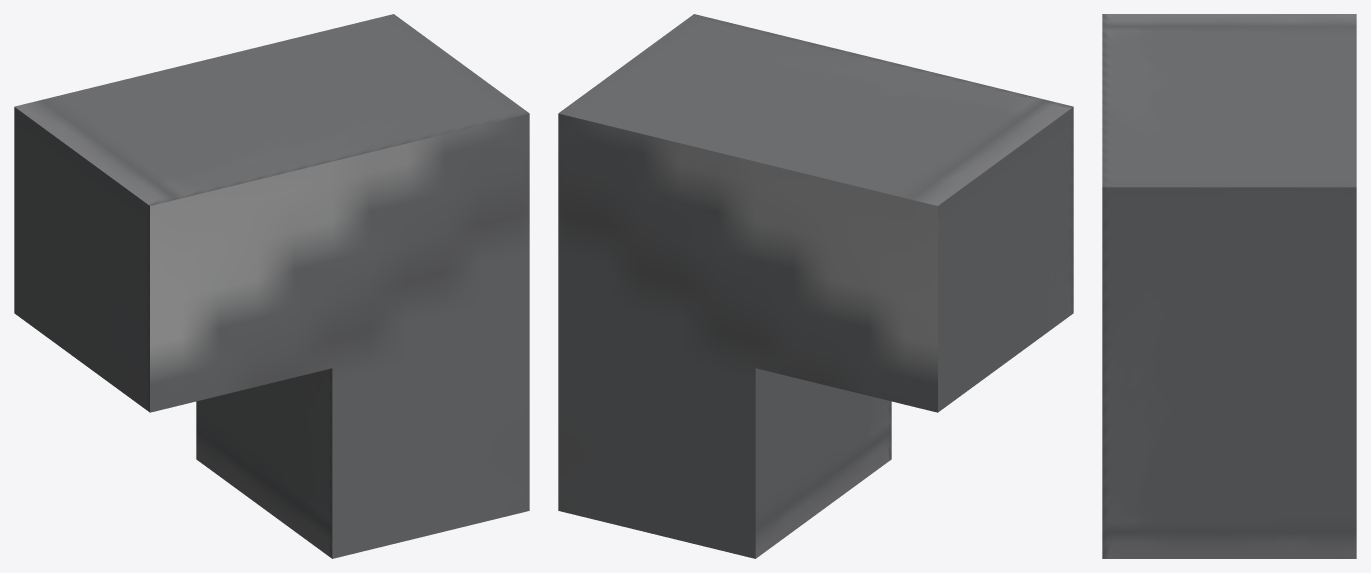
The model's file is pz_counter_steel_wall_corner.obj.
3 views of the same model, side by side, from view 1: azimuth 30°, elevation 25°; view 2: azimuth 150°, elevation 25°; view 3: azimuth 270°, elevation 25° (orthographic). The views are drawn at different scales.
Size of the model in its own units: 1 by 1 by 0.62.
1 material, 1 textured.
